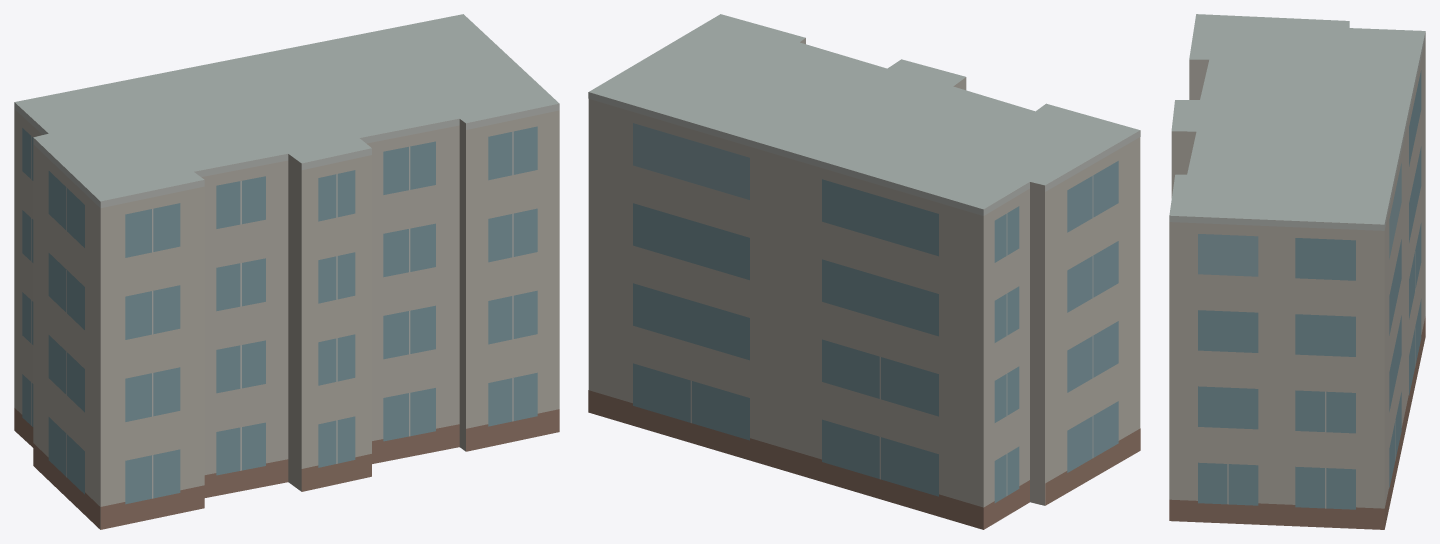
The model's file is survey-upis-32768221.glb.
3 renders of one model, left to right at view 1: azimuth 30°, elevation 25°; view 2: azimuth 150°, elevation 25°; view 3: azimuth 270°, elevation 25°, orthographic. The views are drawn at different scales.
Parts seen in each view (by area): view 1: survey-upis-32768221.tmp; view 2: survey-upis-32768221.tmp; view 3: survey-upis-32768221.tmp.
Part boxes in pixels (box(x1,y1,x2,y2)): survey-upis-32768221.tmp: box(14, 14, 559, 529); survey-upis-32768221.tmp: box(588, 14, 1140, 529); survey-upis-32768221.tmp: box(1169, 14, 1425, 529).
Bounding box in the file's own units: 17.47 × 11.8 × 8.99.
